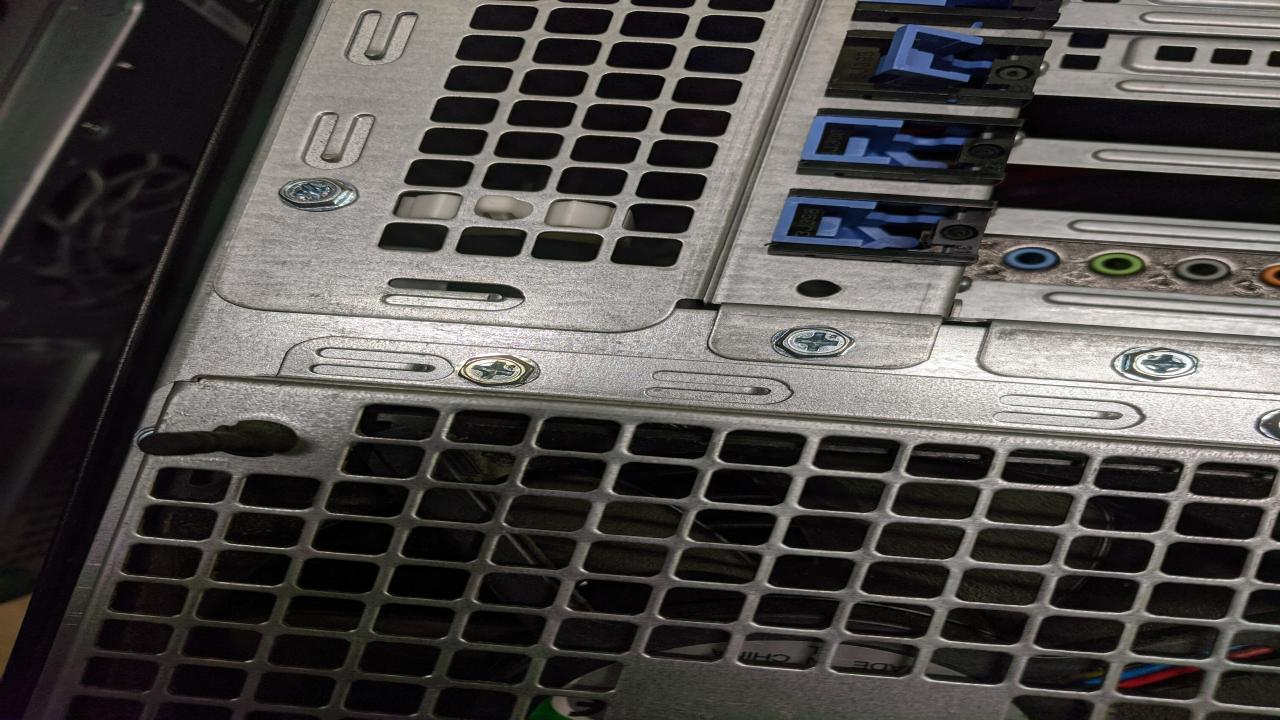CRS: (1120, 345, 1198, 382), (270, 176, 350, 211), (777, 325, 854, 359), (460, 353, 536, 386)
